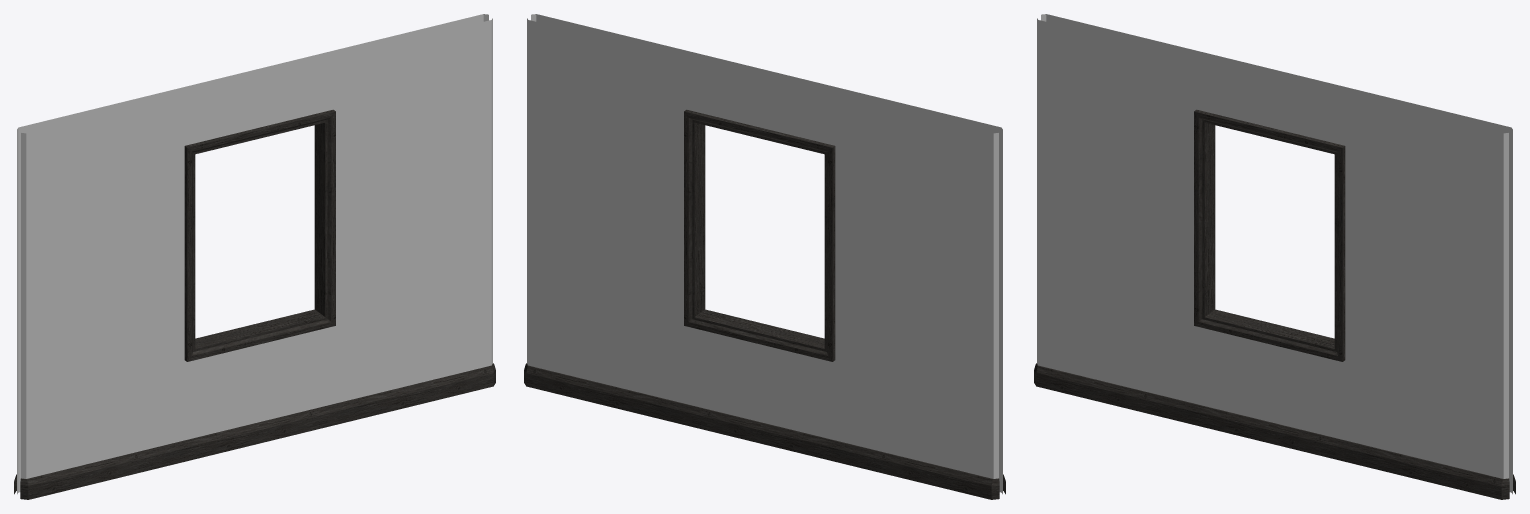
The model's file is window_2_2_single_frame_only.fbx.
3 views of the same model, side by side, from view 1: azimuth 30°, elevation 25°; view 2: azimuth 150°, elevation 25°; view 3: azimuth 330°, elevation 25° (orthographic).
Parts seen in each view (by area): view 1: window_2_2_single_frame_only; view 2: window_2_2_single_frame_only; view 3: window_2_2_single_frame_only.
Part boxes in pixels (bbox=[...]): window_2_2_single_frame_only: bbox=[14, 14, 495, 499]; window_2_2_single_frame_only: bbox=[524, 14, 1005, 499]; window_2_2_single_frame_only: bbox=[1034, 14, 1515, 499].
Size of the model in its own units: 4.09 by 3 by 0.2.
